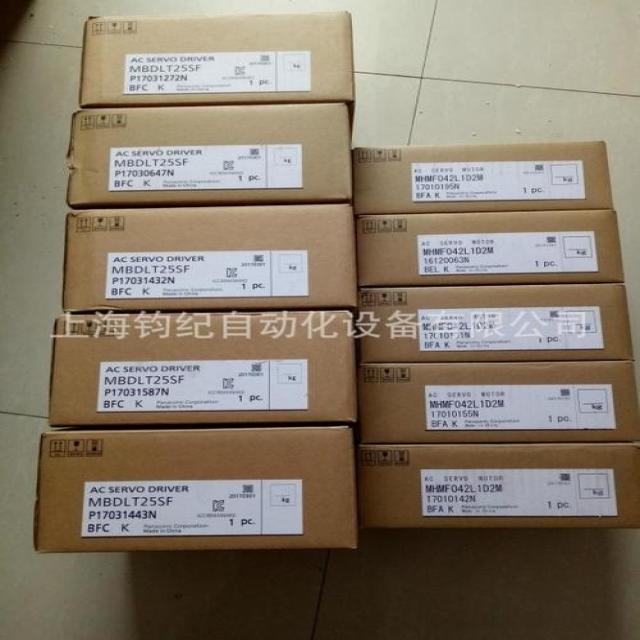box: (32, 425, 360, 553), (49, 310, 360, 425), (78, 12, 353, 140), (63, 201, 360, 313), (65, 103, 353, 208), (357, 443, 640, 530), (360, 360, 640, 443), (360, 283, 635, 364), (358, 210, 625, 288), (353, 141, 612, 214)
